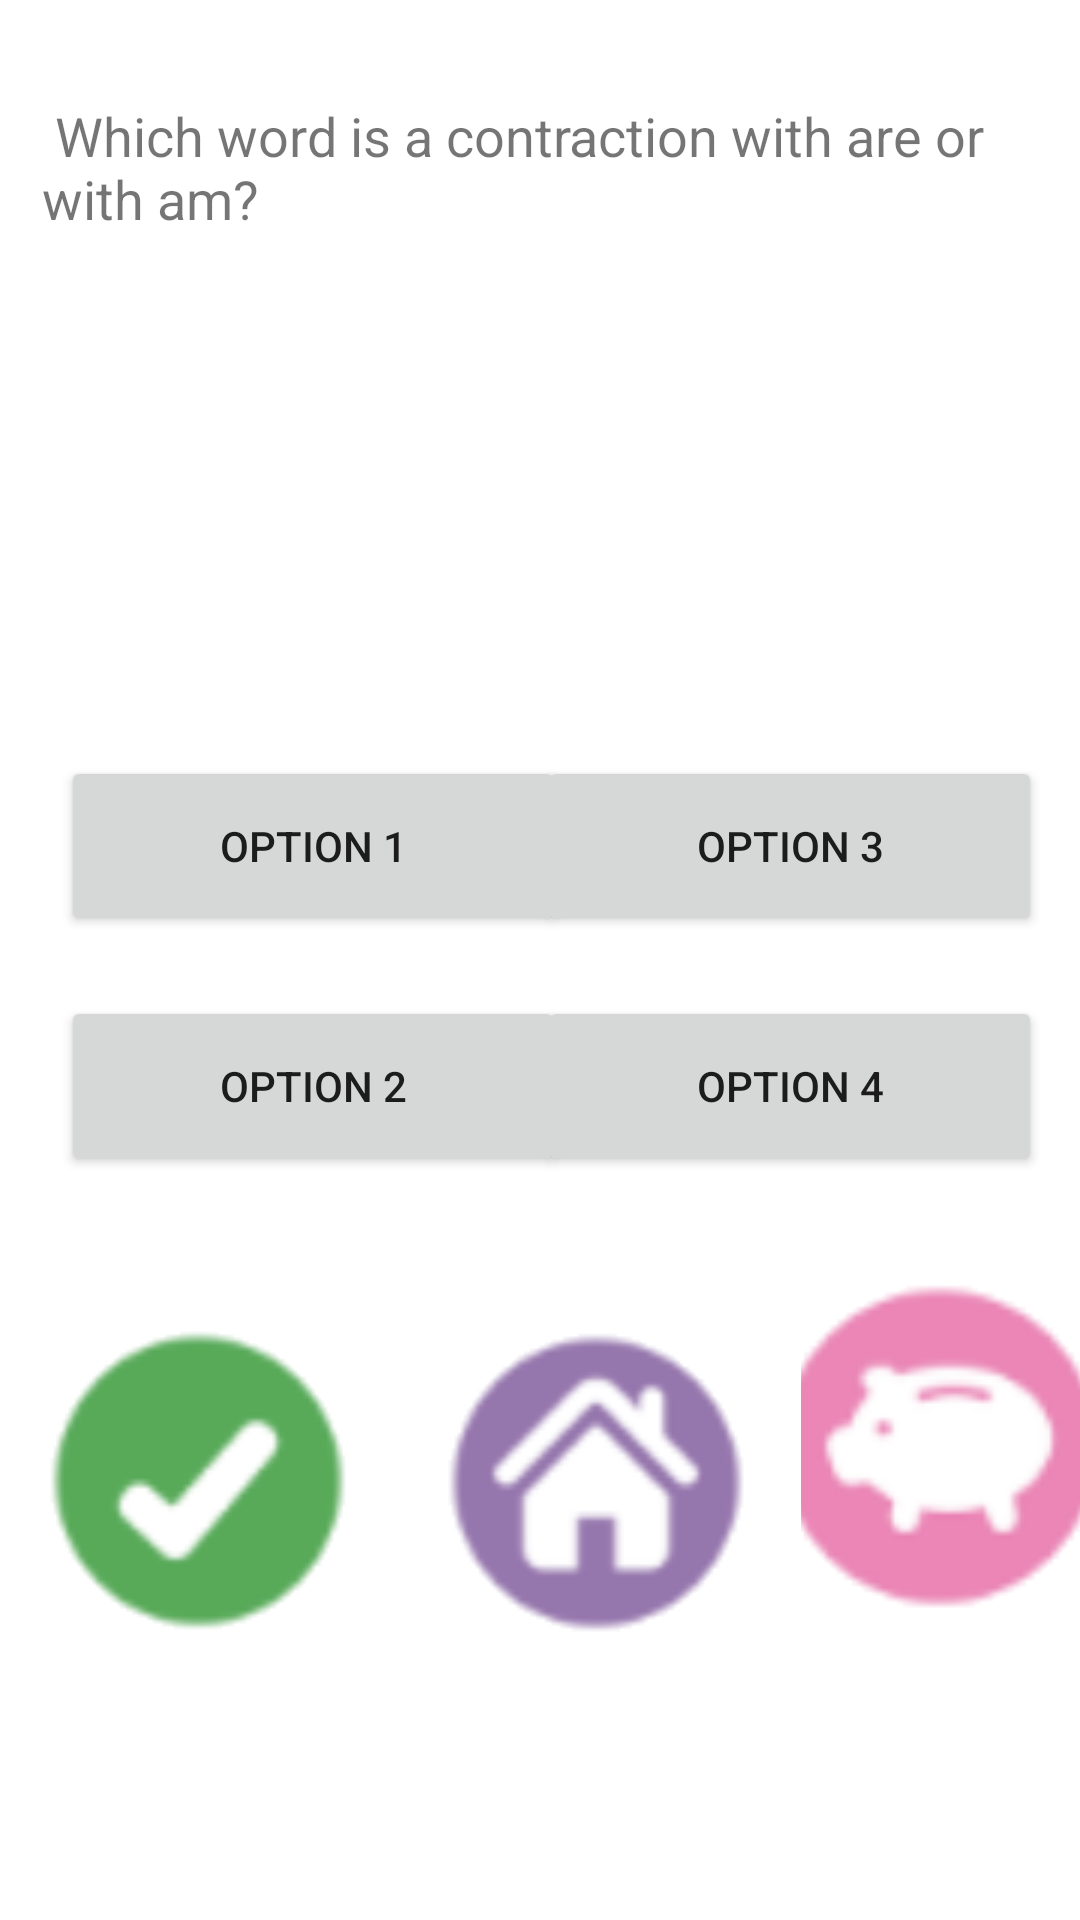

Where to tap for icons on this 1080 x 1920 app screen, as point (x, y):
bank: point (940, 1446)
check: point (198, 1481)
home: point (596, 1482)
